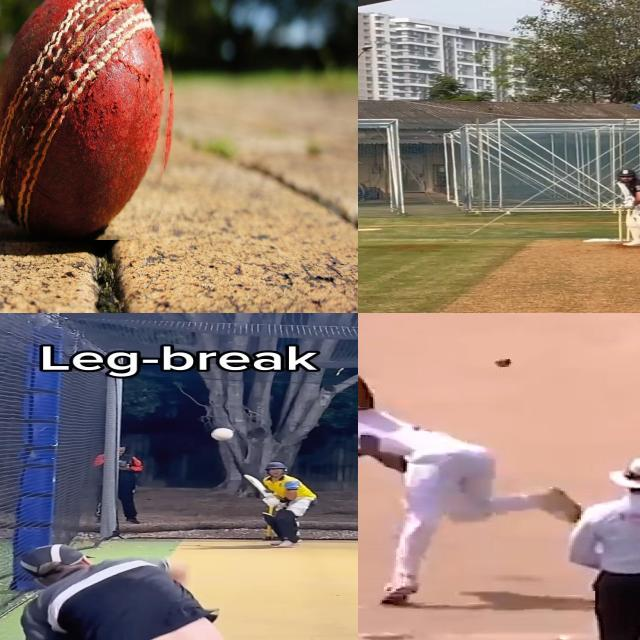Cricket ball: (0, 0, 179, 242), (211, 426, 240, 444), (493, 355, 516, 369)
